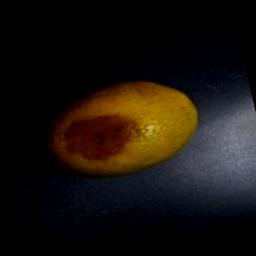Orange Overripe: (22, 63, 197, 199)
